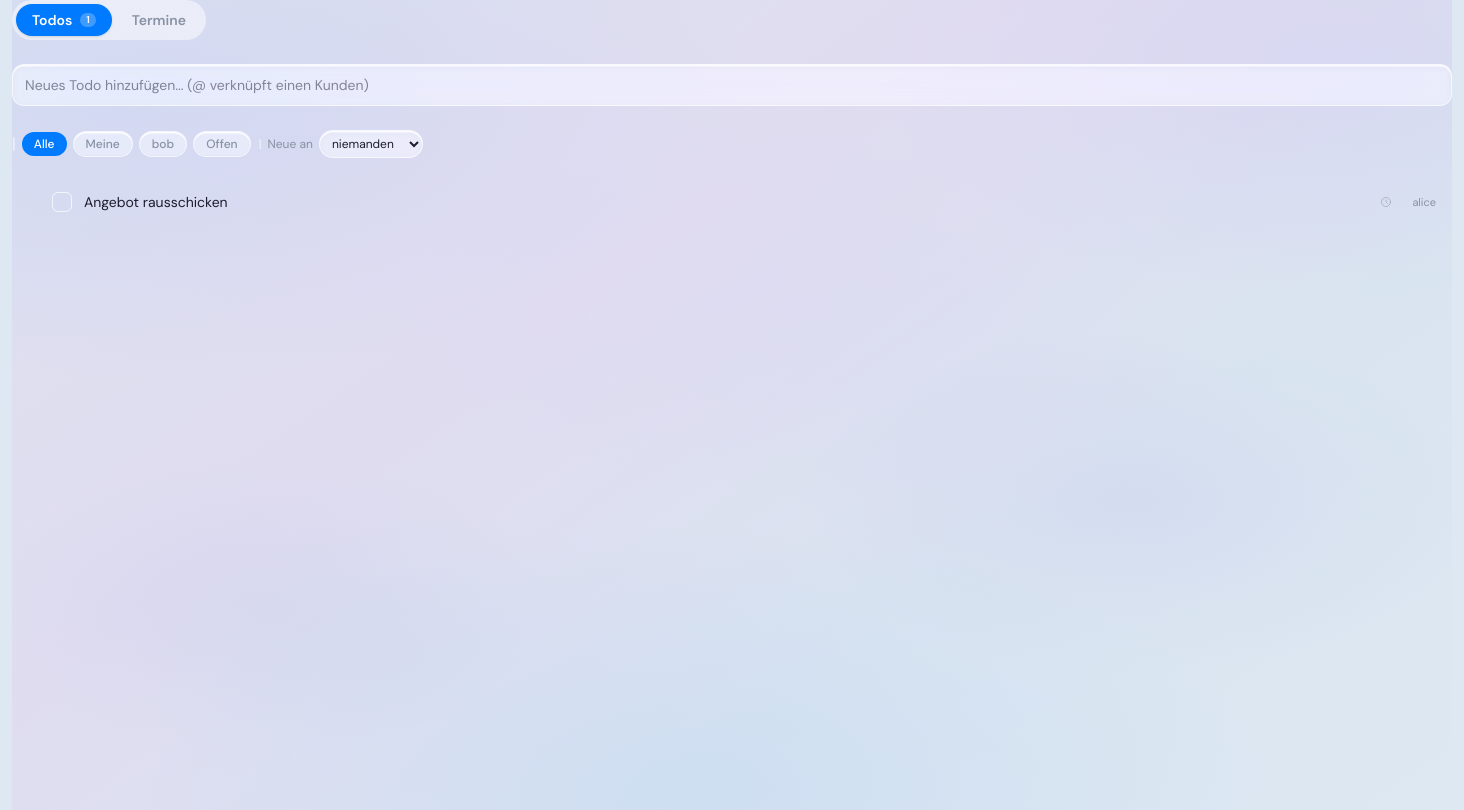
Test: TodosPage › schickt einen neuen Kommentar mit Verfasser
Check: the text "Angebot rausschicken" is shown, box [84,193,228,211]
Click the button "Angebot rausschicken": (156, 202) [84,192,1360,212]
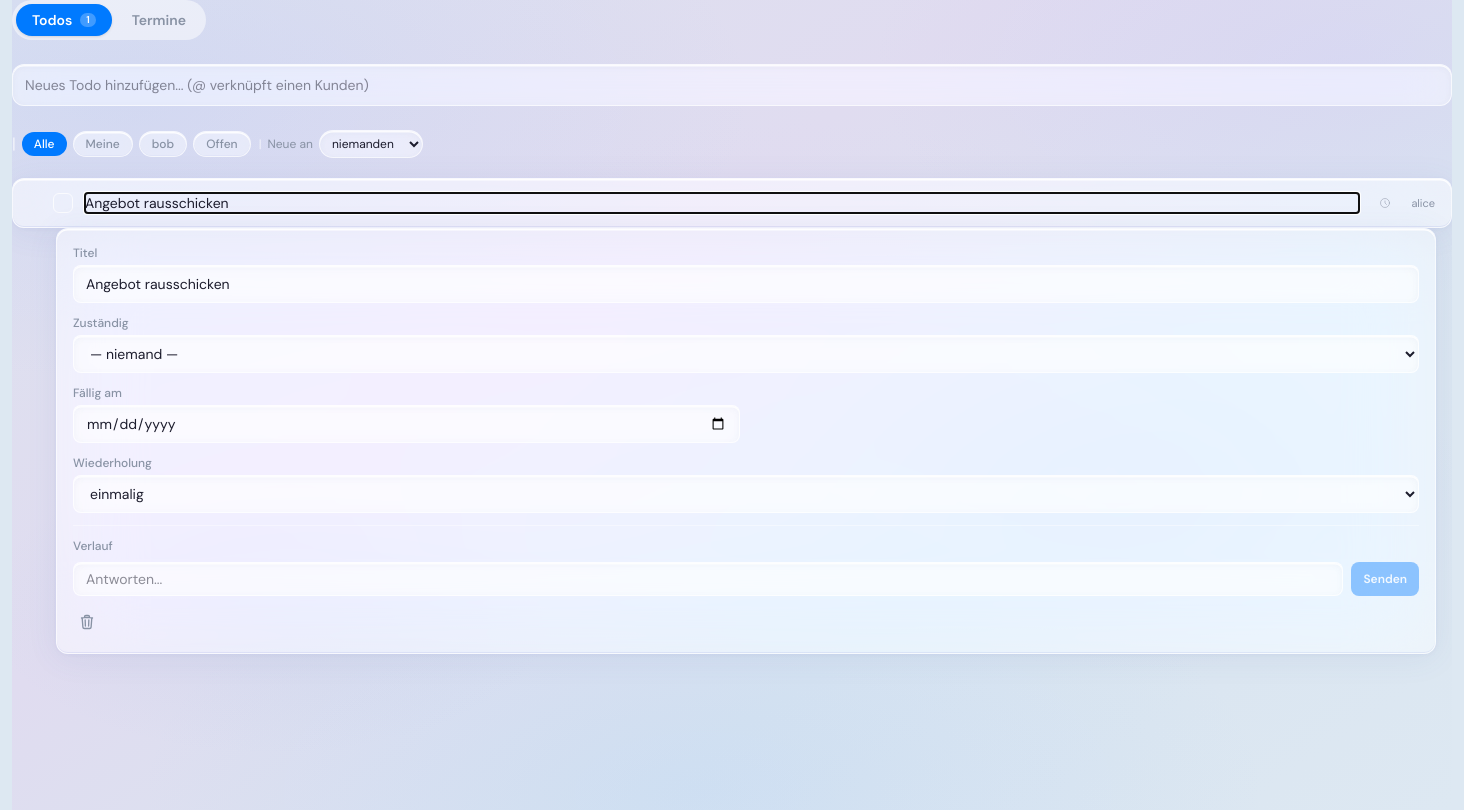
In the field named "Kommentar schreiben": (708, 579) [73,562,1343,596], type "geht heute raus"
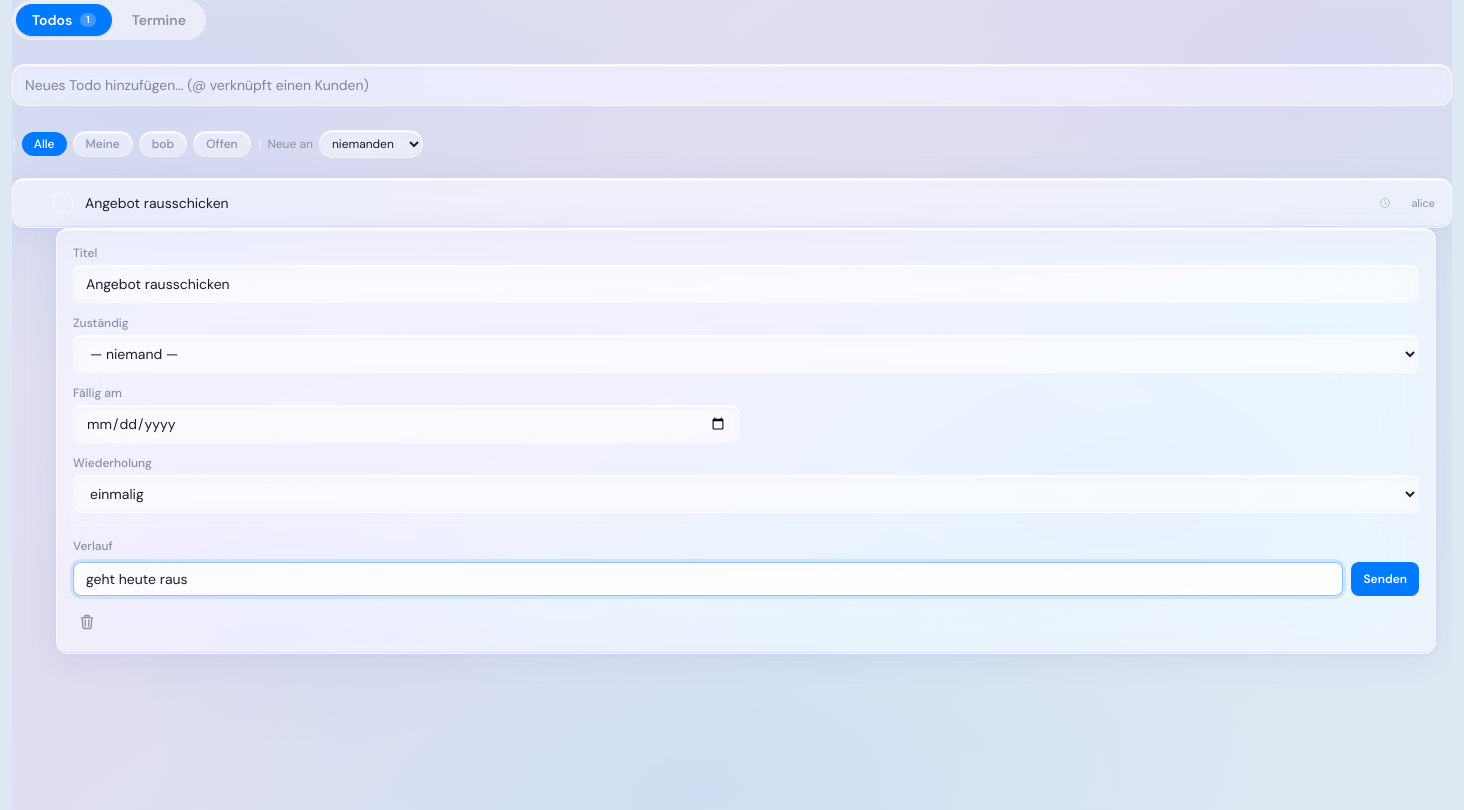
Click the button "Senden": (1385, 579) [1351,562,1419,596]
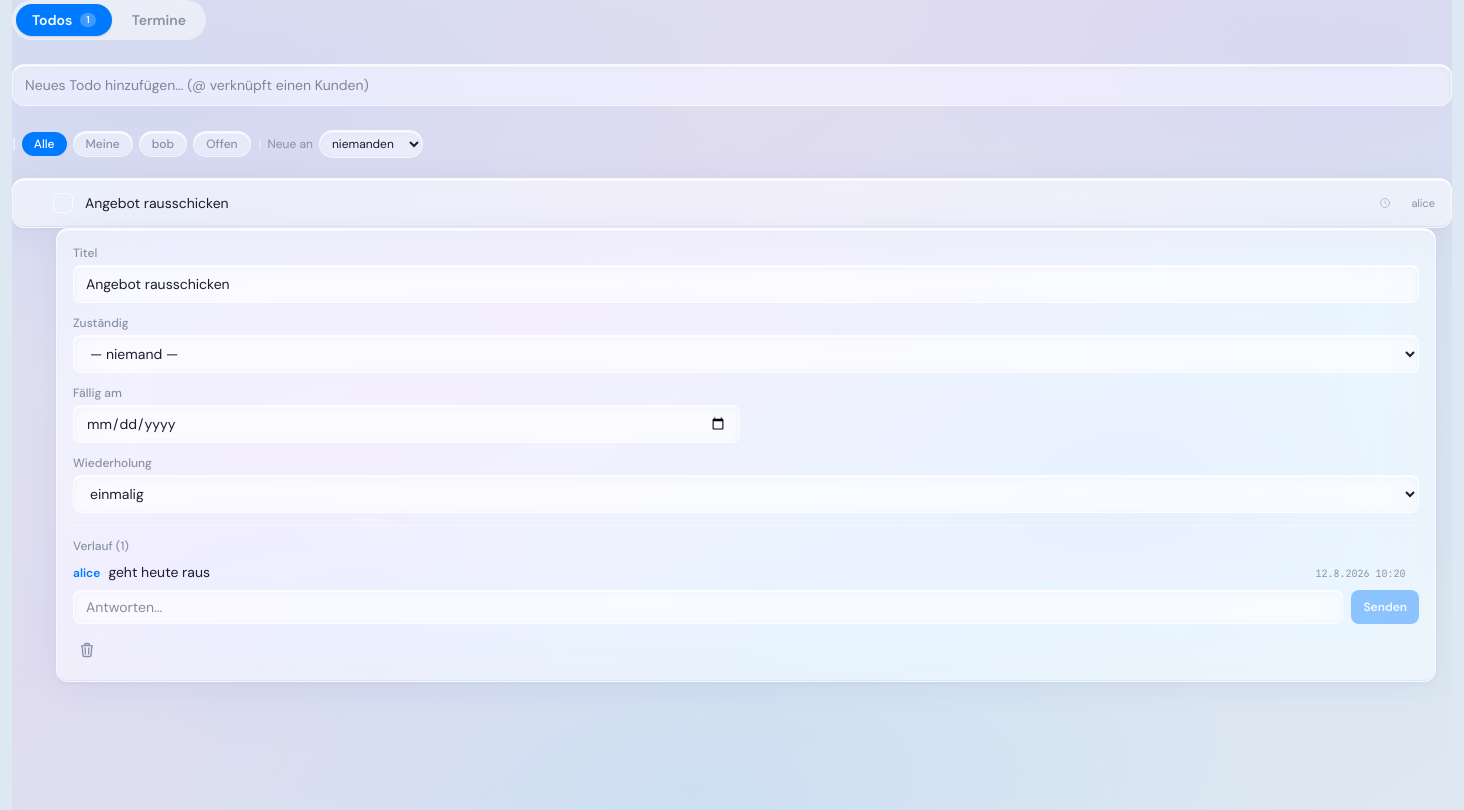
Check: the text "geht heute raus" is shown, box [108,563,210,581]
